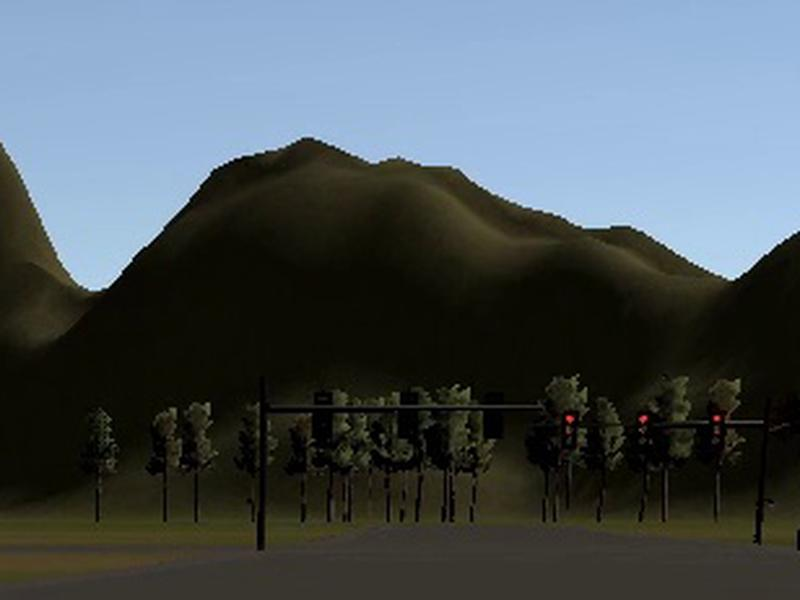Red: (635, 413, 651, 452), (709, 412, 725, 451), (564, 410, 578, 451)
